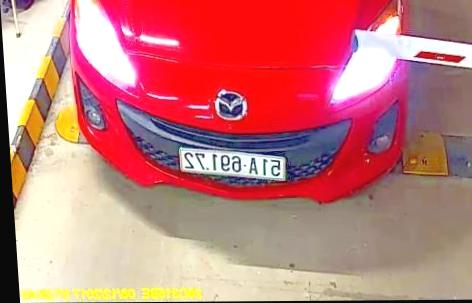License_Plate: (175, 145, 289, 183)
